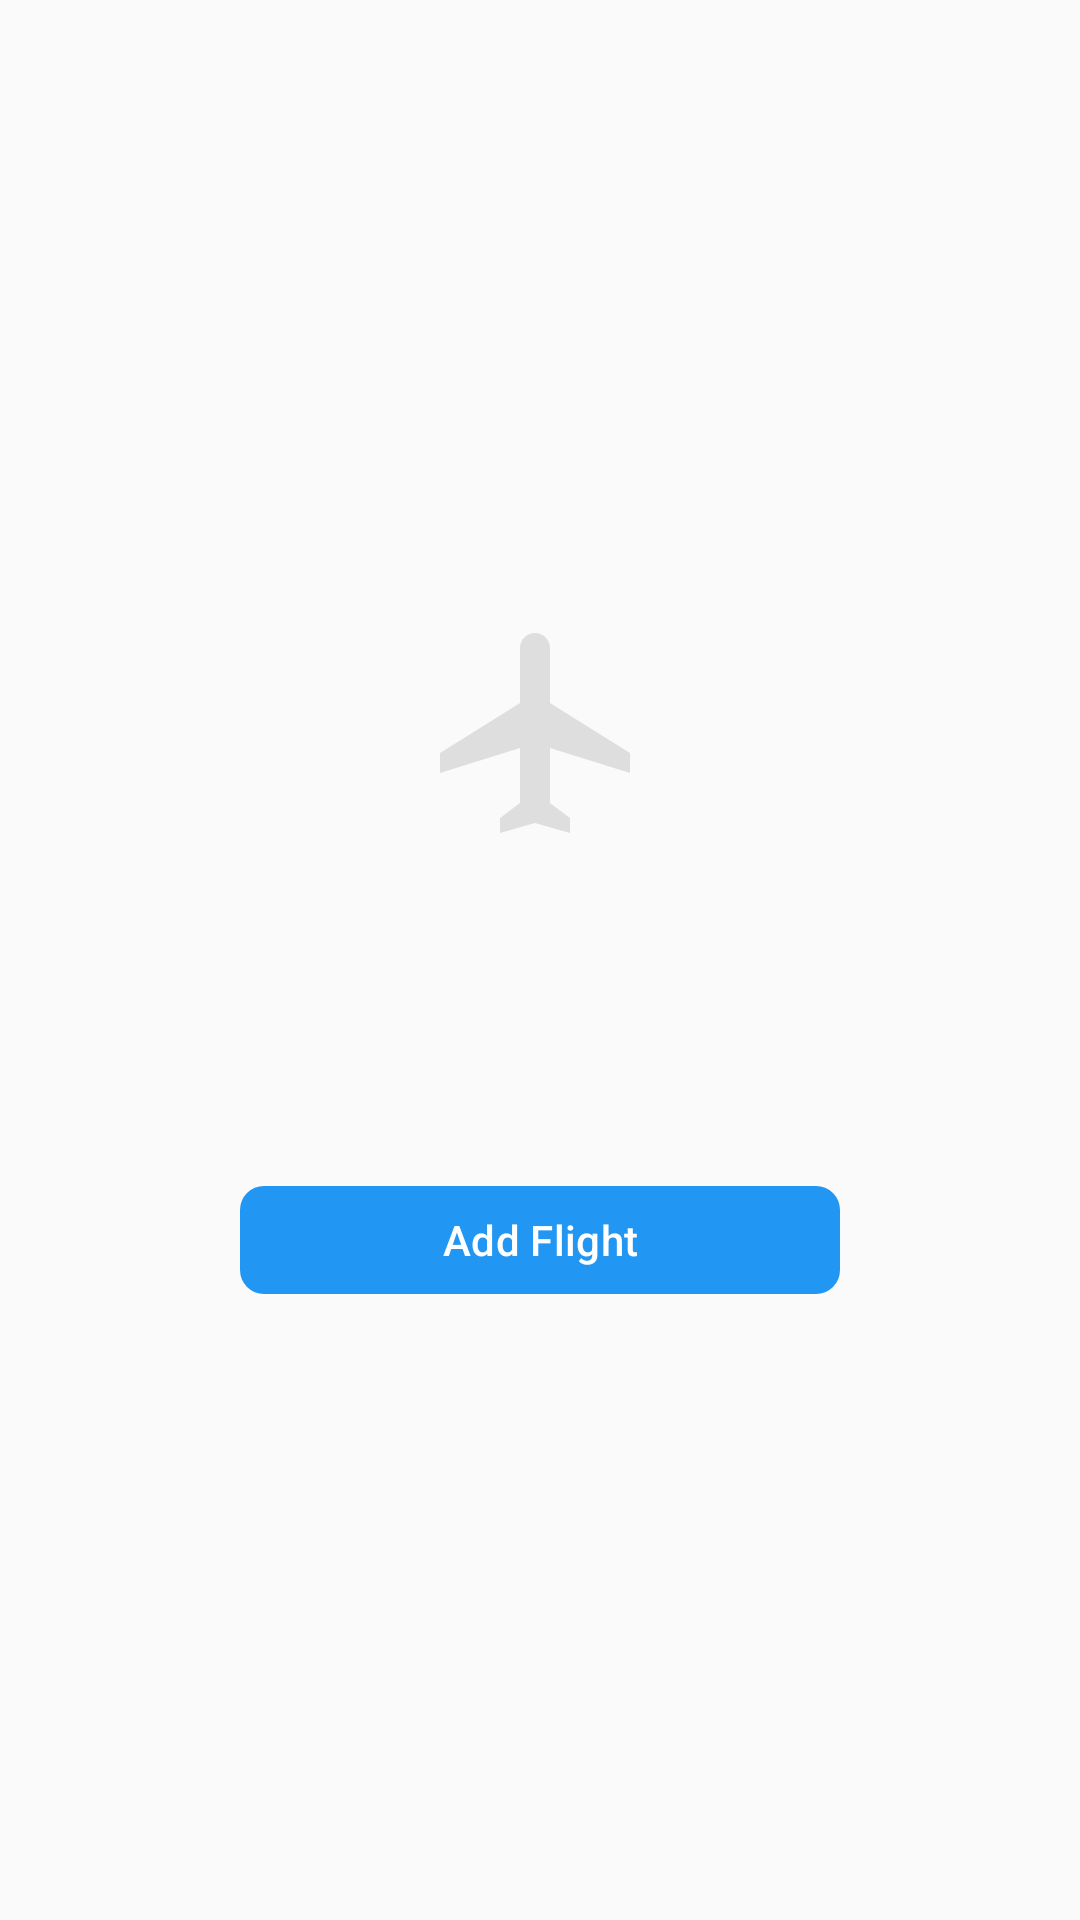

Named icons in this screenshot (1080 × 1920) and their bounding boxes, bbox=[x1, y1, x2, y2]:
flight: bbox=[440, 633, 630, 832]
